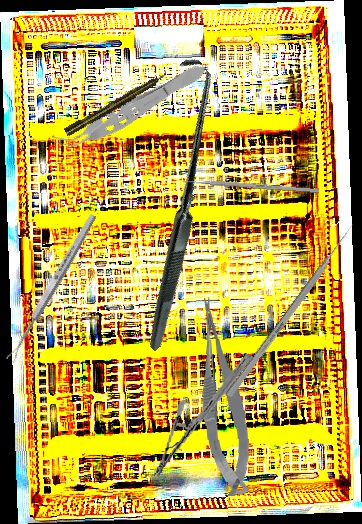Handpiece: (63, 69, 170, 138)
Hook Surgical: (24, 53, 324, 352)
Micro Scissor: (193, 295, 255, 498)
Needle Holder: (151, 342, 254, 489)
Pusher: (225, 221, 357, 399), (173, 177, 319, 194)
Surgical Spoon: (4, 212, 99, 364)
Tissue Forceps: (50, 55, 212, 162)
